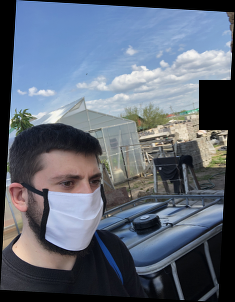with_mask: (38, 166, 107, 254)
